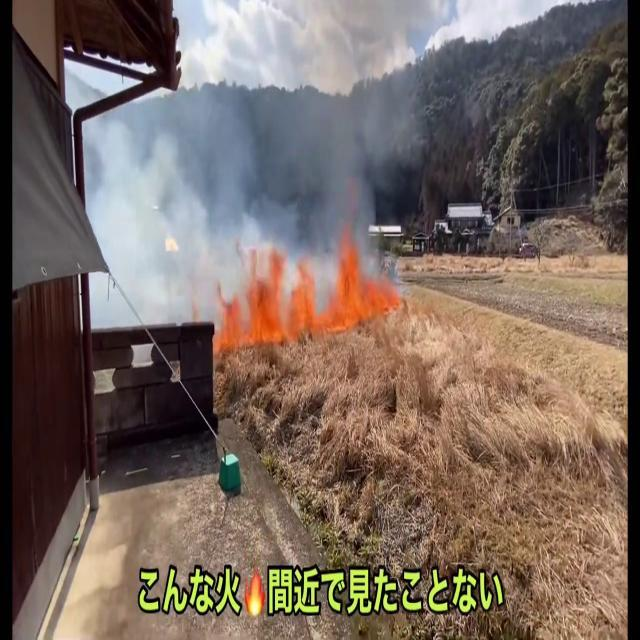Fire: (218, 228, 330, 348), (328, 242, 403, 326)
Smoke: (90, 0, 425, 278)
